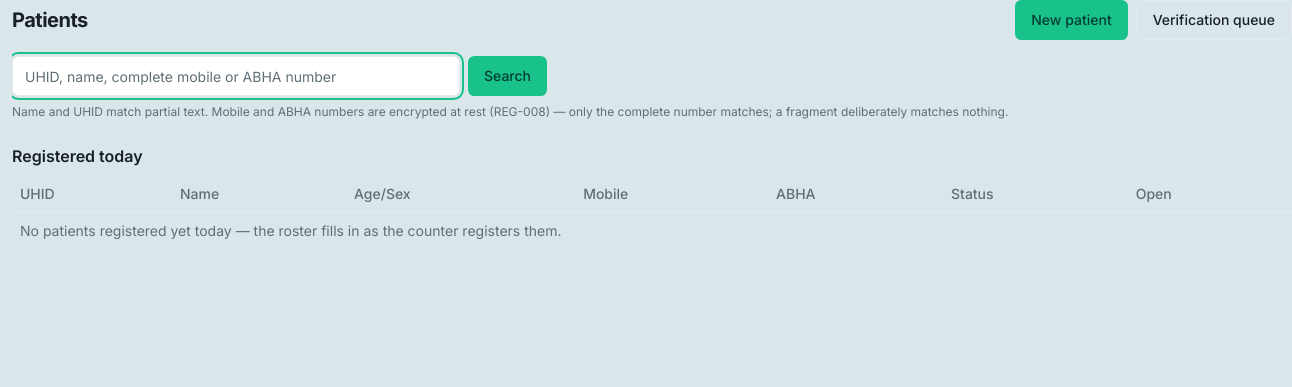
PatientList › searches through the search action and states the exact-match degradation
expect the heading "Patients" is shown: met, box top-left (12, 6), bottom-right (88, 34)
Step 1. Type "Asha" into the search field named "search patients" → (236, 76), box top-left (12, 56), bottom-right (460, 96)
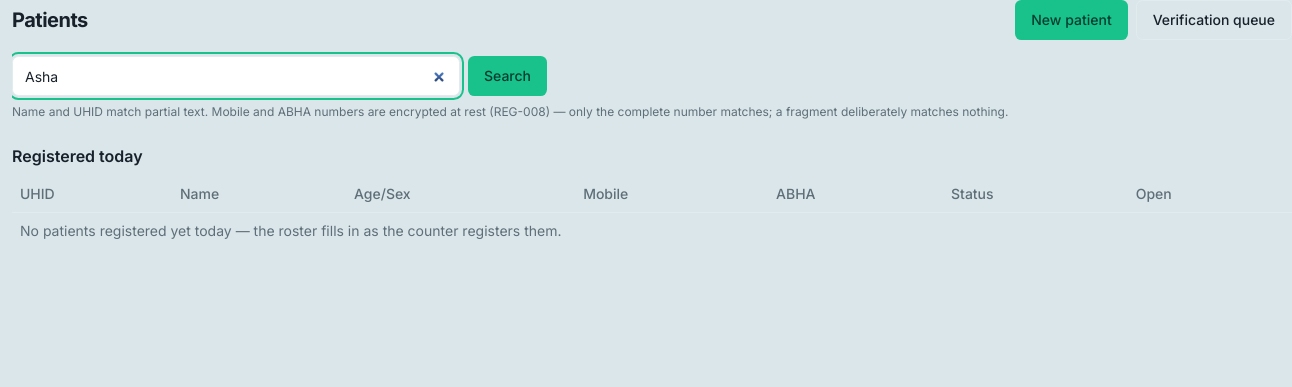
Step 2. Click the button "Search" → click(508, 76), box top-left (468, 56), bottom-right (547, 96)
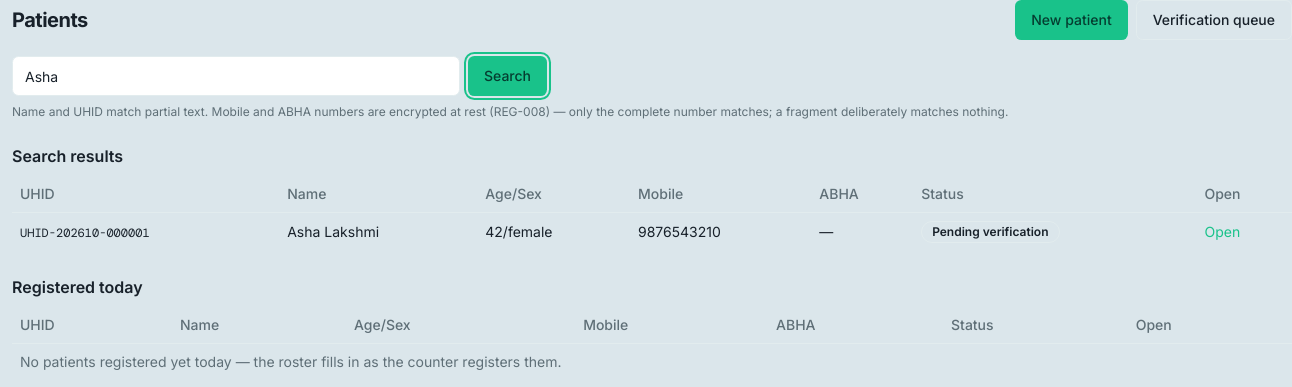
expect the cell "UHID-202610-000001" is shown: met, box top-left (12, 213), bottom-right (279, 251)
Step 3. Replace the text in the search field named "search patients" with "9876" → (236, 76), box top-left (12, 56), bottom-right (460, 96)
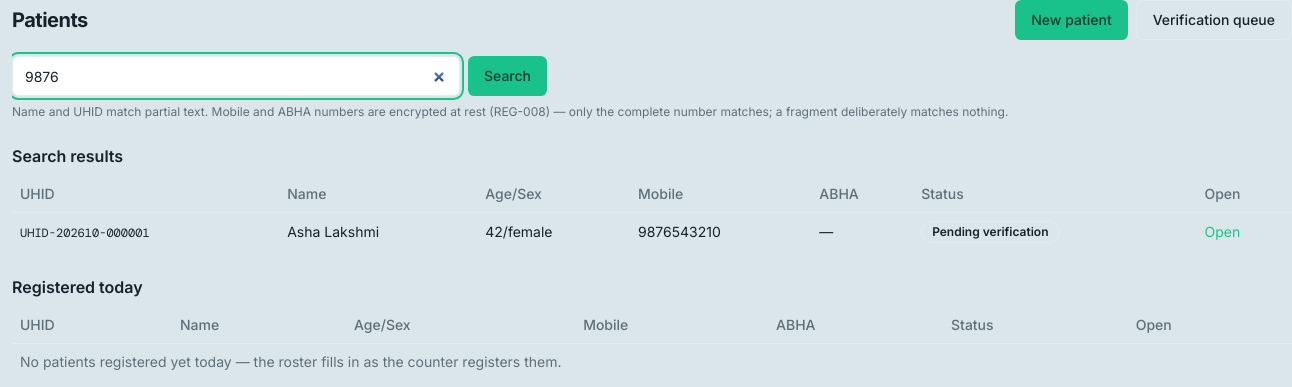
Step 4. Click the button "Search" → click(508, 76), box top-left (468, 56), bottom-right (547, 96)
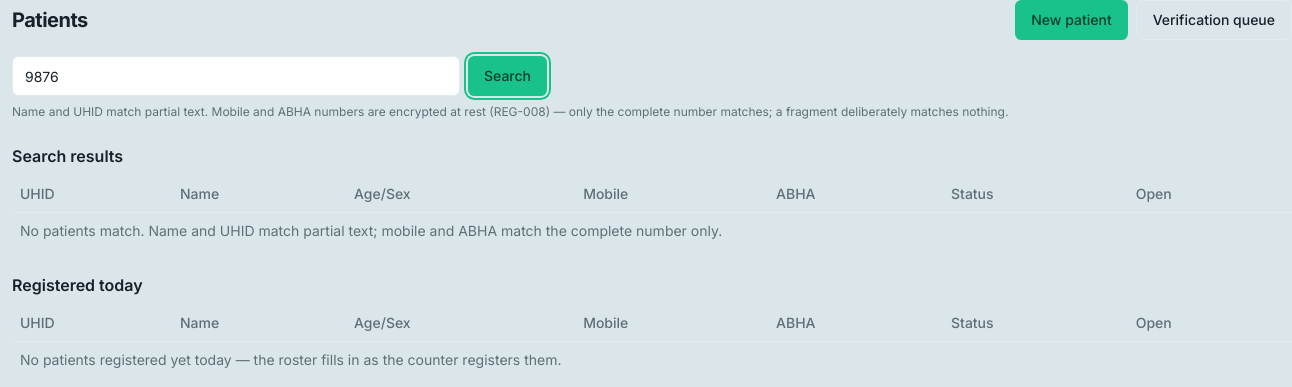
expect the text "match the complete number only" is shown: met, box top-left (20, 222), bottom-right (722, 239)
expect the text "Asha Lakshmi" is gone: met
